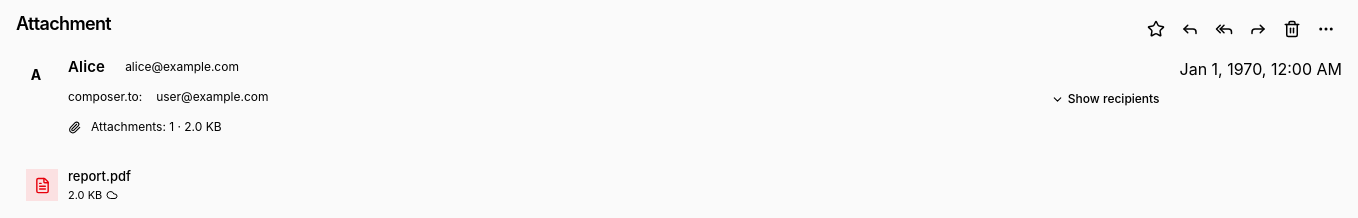
MessageViewer › collapses overflowing recipients to one row until explicitly expanded
Click the button "Show recipients".
click(1105, 99)  # box [1043, 85, 1168, 113]
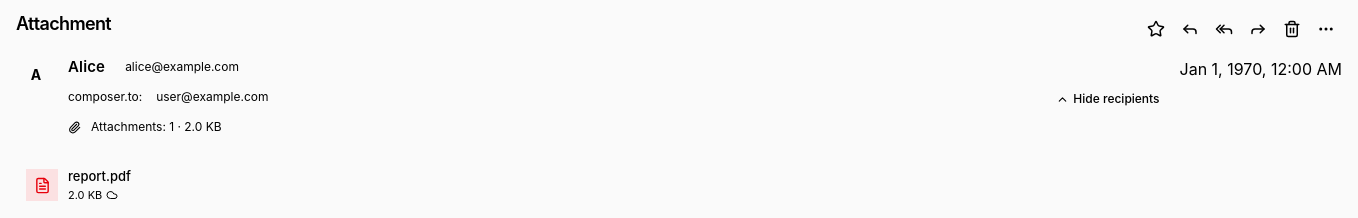
Now the button "Hide recipients" is expanded, box [1048, 85, 1168, 113]
